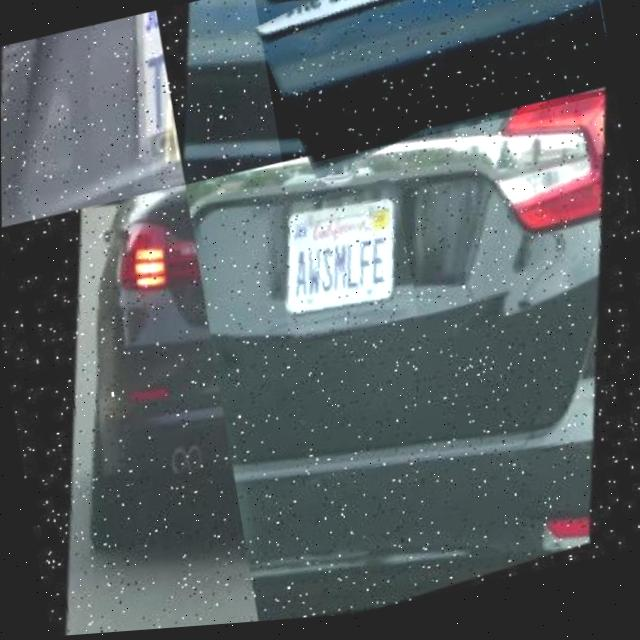LicensePlate: (253, 0, 616, 175), (268, 183, 418, 350)
